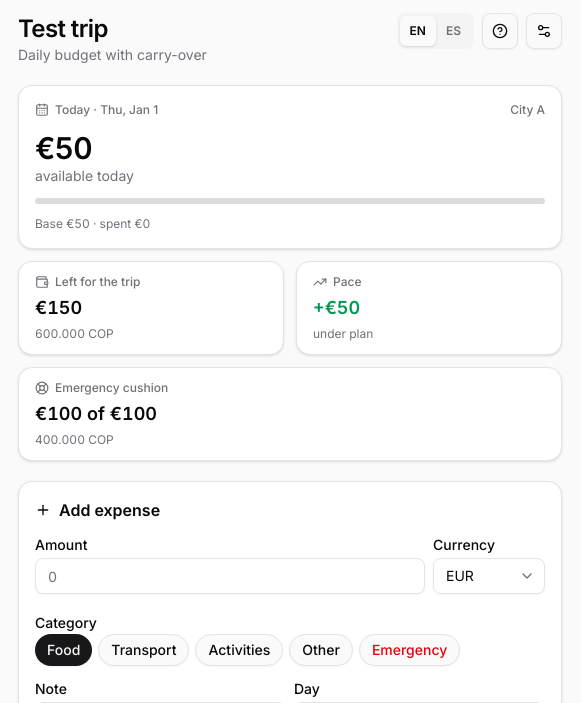
Test: language › switches the whole interface to Spanish, with Spanish number formats
Type "12.5" into the number field labelled "Amount" at (230, 576), box x1=35 y1=558 x2=425 y2=594
(page scrolled)
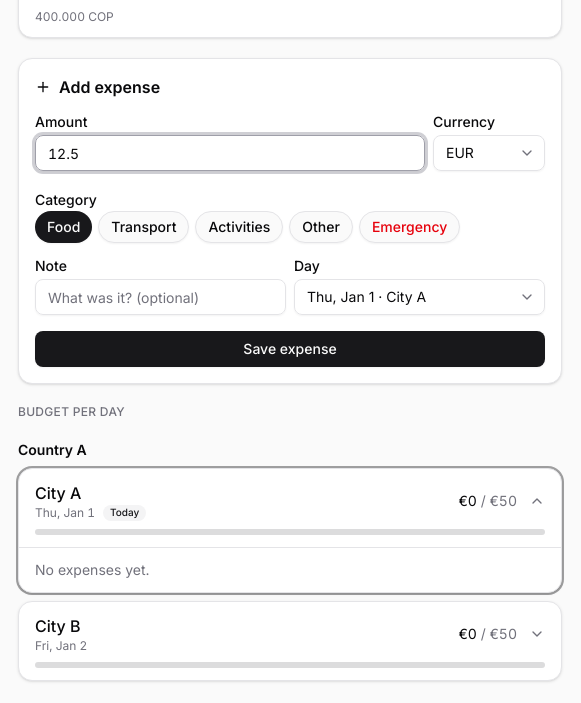
Click the button "Save expense" at (290, 349), box x1=35 y1=331 x2=545 y2=367
(page scrolled)
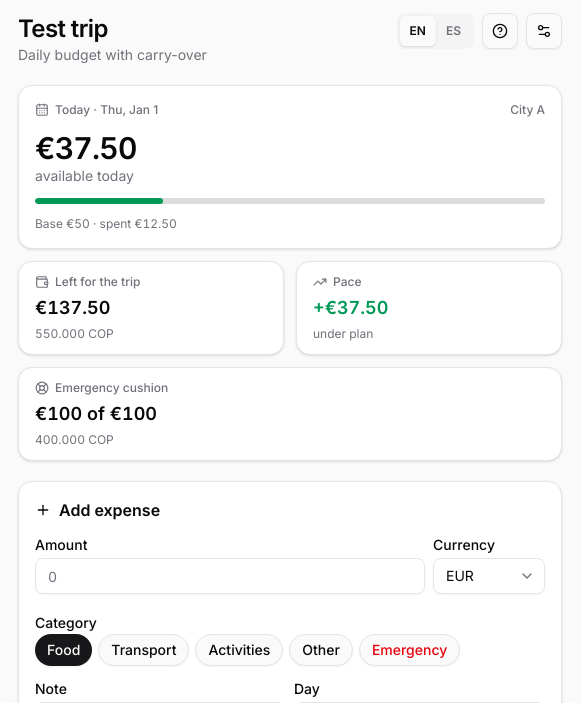
Click the button "ES" at (453, 31), box x1=436 y1=16 x2=471 y2=46
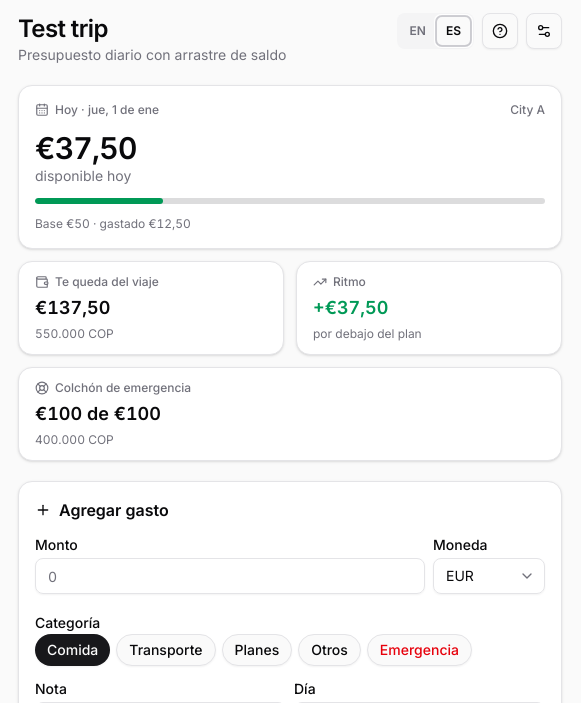
Expected: the text "disponible hoy" is shown, x1=35 y1=167 x2=131 y2=184
Expected: the text with test id "available-today" reads "€37,50", x1=35 y1=130 x2=137 y2=166
